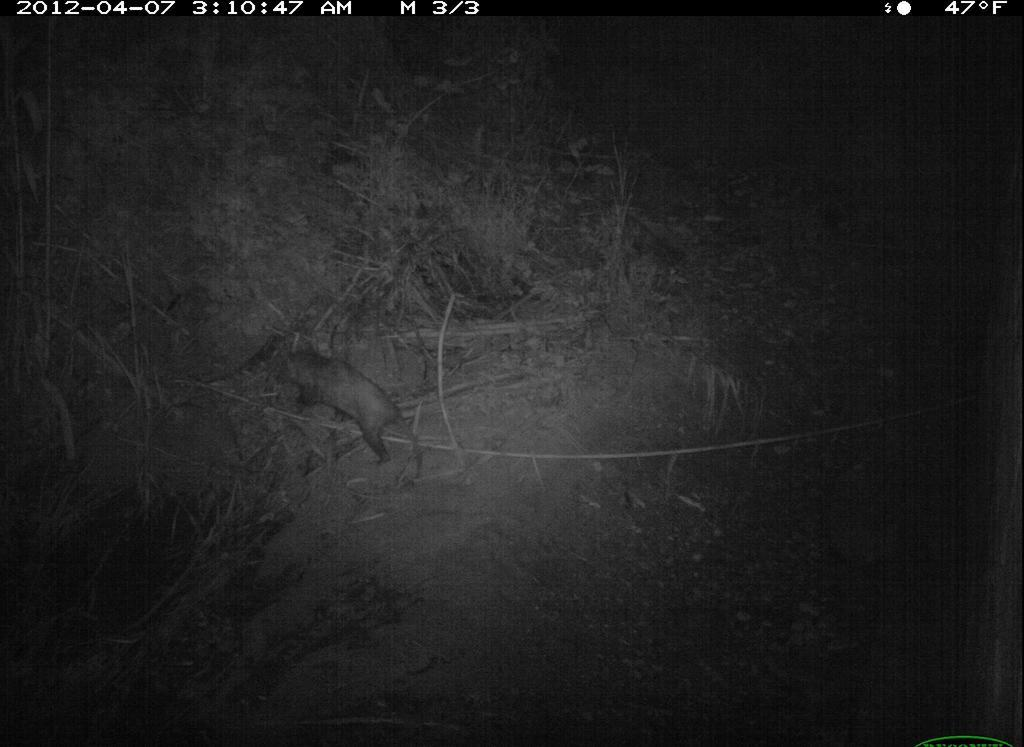opossum: (250, 332, 428, 475)
